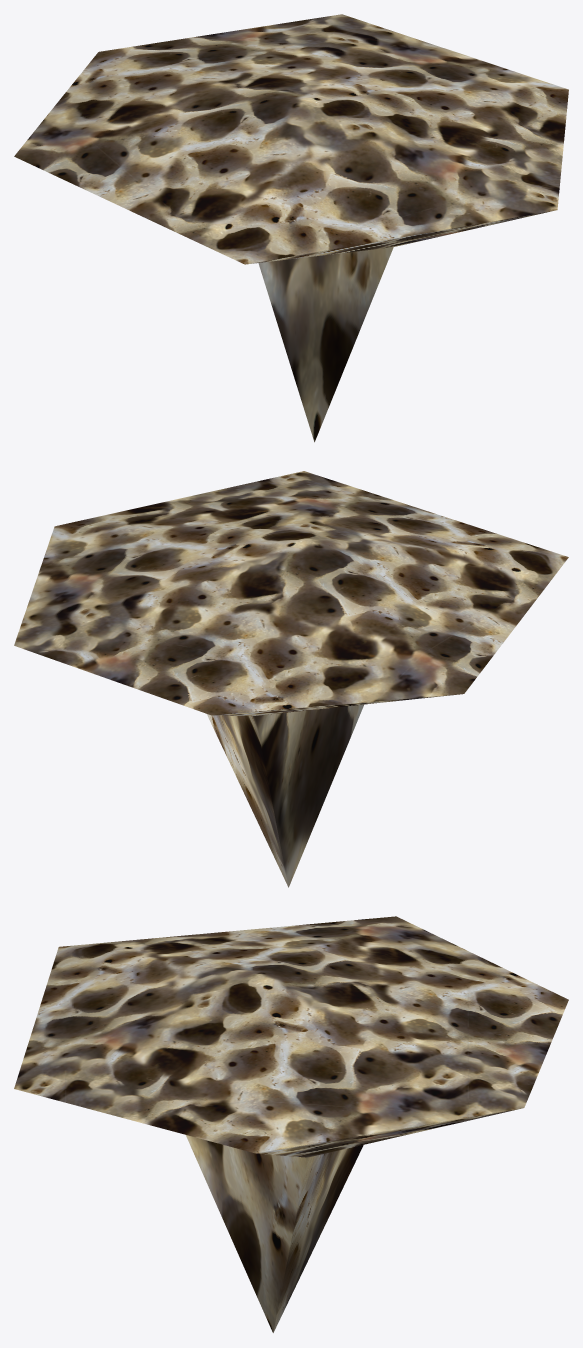
The model's file is CoralStone-02_LOD2.fbx.
3 renders of one model, top to bottom at view 1: azimuth 30°, elevation 25°; view 2: azimuth 150°, elevation 25°; view 3: azimuth 270°, elevation 25°, orthographic.
Parts seen in each view (by area): view 1: CoralStone-02_low; view 2: CoralStone-02_low; view 3: CoralStone-02_low.
Part boxes in pixels (x1,y1,x2,y2): CoralStone-02_low: [14, 14, 568, 442]; CoralStone-02_low: [14, 471, 568, 887]; CoralStone-02_low: [14, 916, 568, 1332].
Bounding box in the file's own units: 0.229 × 0.1576 × 0.2265.
